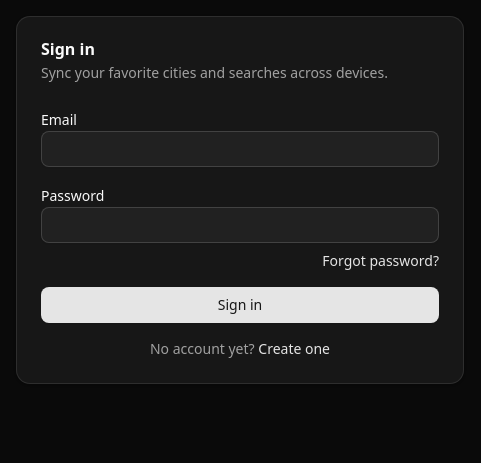
AuthPage › shows the API's message when sign-in fails
In the field labelled "Email": (240, 149) [41,131,439,167], type "an@example.com"
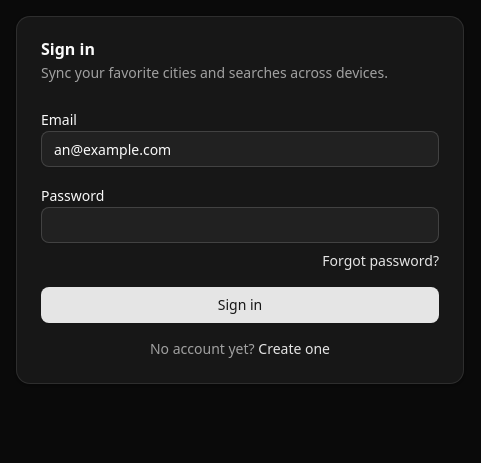
In the password field labelled "Password": (240, 225) [41,207,439,243], type "wrong-password"
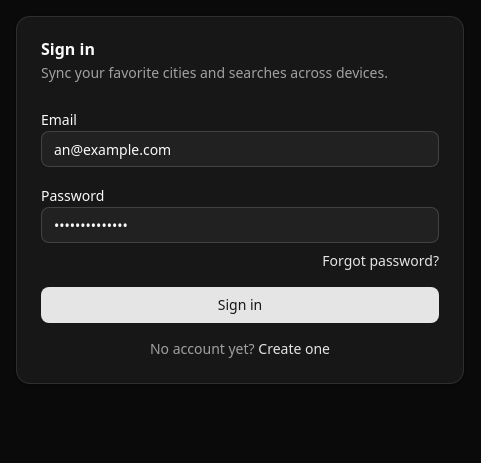
Click the button "Sign in": (240, 305) [41,287,439,323]
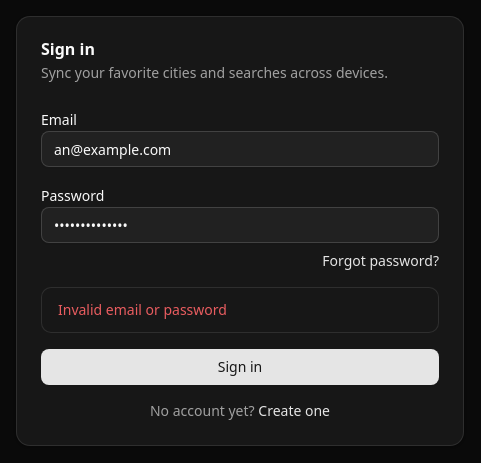
Expected: the text "Invalid email or password" is shown, [58,300,227,319]
